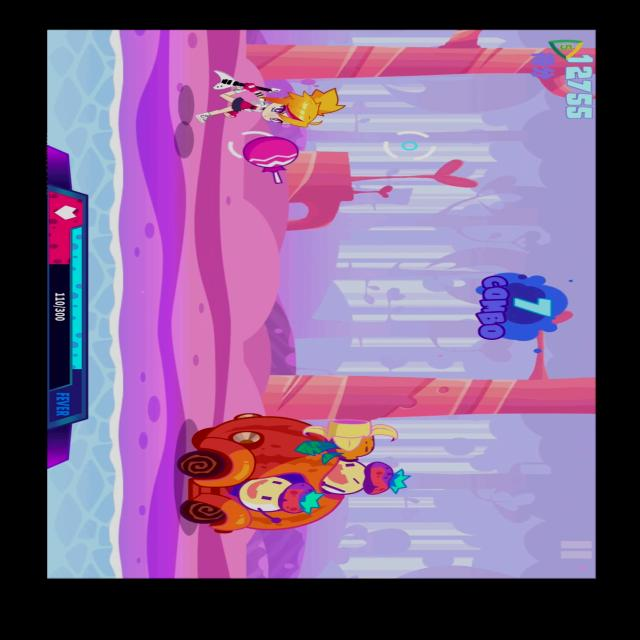Boss-Pumpkin: (170, 407, 410, 542)
Ground Monster - Candy: (230, 132, 308, 188)
